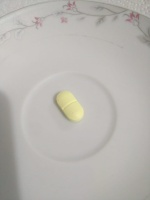Aferin: (53, 89, 85, 123)
